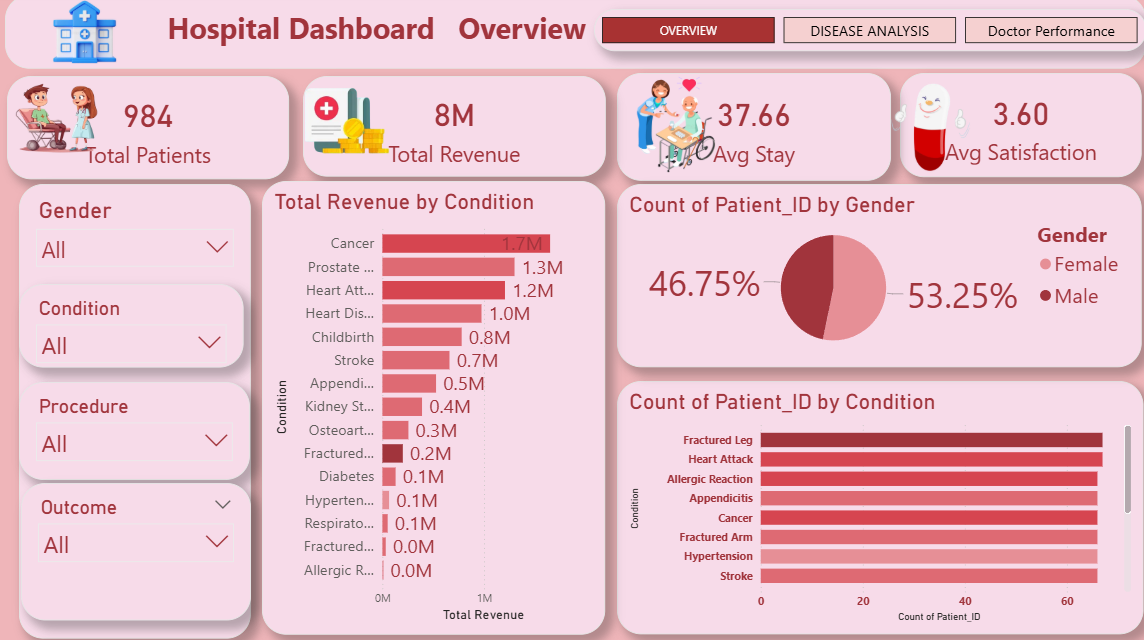

The page's visual inventory and layout, read from the dashboard file:
{"tool":"powerbi","page":{"name":"OVERVIEW","canvas":[1280,720],"ordinal":0},"visuals":[{"type":"textbox","box":[10.2,0,1269.8,81.6],"z":0},{"type":"card","fields":{"Values":["hospital data analysis.Total Patients"]},"box":[12.7,90.5,313.6,114.7],"z":1000},{"type":"card","fields":{"Values":["Calendar.Avg Satisfaction"]},"box":[1005.9,86.7,269,116],"z":2000},{"type":"card","fields":{"Values":["hospital data analysis.Avg Stay"]},"box":[691,86.7,304.7,119.8],"z":3000},{"type":"card","fields":{"Values":["hospital data analysis.Total Revenue"]},"box":[341.7,90.5,336.6,112.2],"z":4000},{"type":"barChart","fields":{"Category":["hospital data analysis.Condition"],"Y":["CountNonNull(hospital data analysis.Patient_ID)"]},"box":[691,429.6,586.5,281.8],"z":5000},{"type":"pieChart","fields":{"Category":["hospital data analysis.Gender"],"Y":["CountNonNull(hospital data analysis.Patient_ID)"]},"box":[691,210.4,583.9,204],"z":6000},{"type":"slicer","fields":{"Values":["hospital data analysis.Gender"]},"box":[25.5,210.4,257.5,506.1],"z":7000},{"type":"slicer","fields":{"Values":["hospital data analysis.Condition"]},"box":[28,321.3,249.9,93.1],"z":8000},{"type":"slicer","fields":{"Values":["hospital data analysis.Procedure"]},"box":[26,430.2,257.2,108.7],"z":9000},{"type":"slicer","fields":{"Values":["hospital data analysis.Outcome"]},"box":[27.6,543.5,255.7,153.1],"z":10000},{"type":"image","box":[0,86.7,145.3,103.3],"z":11000},{"type":"image","box":[295.8,72.7,172.1,137.7],"z":12000},{"type":"image","box":[949.8,90.5,179.8,109.6],"z":13000},{"type":"image","box":[698.6,73.9,116,141.5],"z":14000},{"type":"image","box":[12.7,0,173.4,81.6],"z":15000},{"type":"clusteredBarChart","fields":{"Category":["hospital data analysis.Condition"],"Y":["hospital data analysis.Total Revenue"]},"box":[295.8,206.5,382.5,504.9],"z":16000},{"type":"pageNavigator","box":[665.5,15.3,614.5,47.2],"z":17000}]}

Visuals, with their boxes in screenshot pixels (x1, y1, x2, y2), scaled from the page's 1280x720 canvas onto the 1144x640 screenshot:
textbox: detection(9, 0, 1143, 73)
card - hospital data analysis.Total Patients: detection(11, 80, 292, 182)
card - Calendar.Avg Satisfaction: detection(899, 77, 1139, 180)
card - hospital data analysis.Avg Stay: detection(618, 77, 890, 184)
card - hospital data analysis.Total Revenue: detection(305, 80, 606, 180)
barChart - hospital data analysis.Condition x CountNonNull(hospital data analysis.Patient_ID): detection(618, 382, 1142, 632)
pieChart - hospital data analysis.Gender x CountNonNull(hospital data analysis.Patient_ID): detection(618, 187, 1139, 368)
slicer - hospital data analysis.Gender: detection(23, 187, 253, 637)
slicer - hospital data analysis.Condition: detection(25, 286, 248, 368)
slicer - hospital data analysis.Procedure: detection(23, 382, 253, 479)
slicer - hospital data analysis.Outcome: detection(25, 483, 253, 619)
image: detection(0, 77, 130, 169)
image: detection(264, 65, 418, 187)
image: detection(849, 80, 1010, 178)
image: detection(624, 66, 728, 191)
image: detection(11, 0, 166, 73)
clusteredBarChart - hospital data analysis.Condition x hospital data analysis.Total Revenue: detection(264, 184, 606, 632)
pageNavigator: detection(595, 14, 1143, 56)
